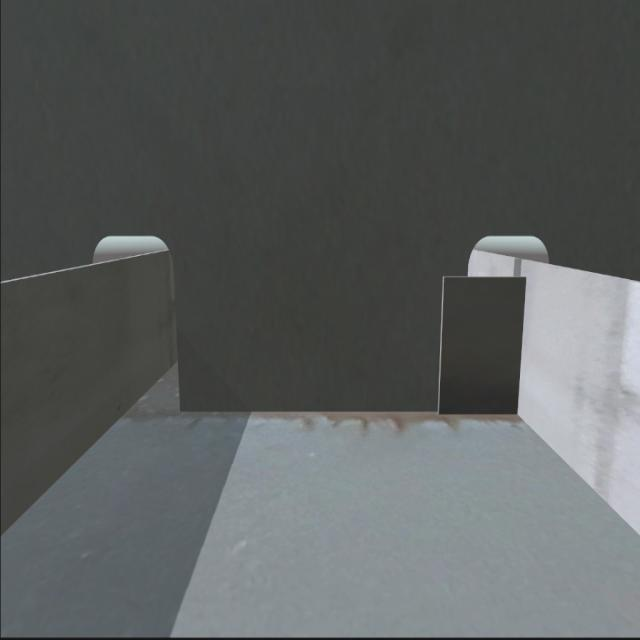fillet_yong_jeop_jang: (178, 406, 524, 420)
longi_yong_jeop_jang: (512, 271, 526, 424)
plate_CP01: (442, 275, 524, 417)
